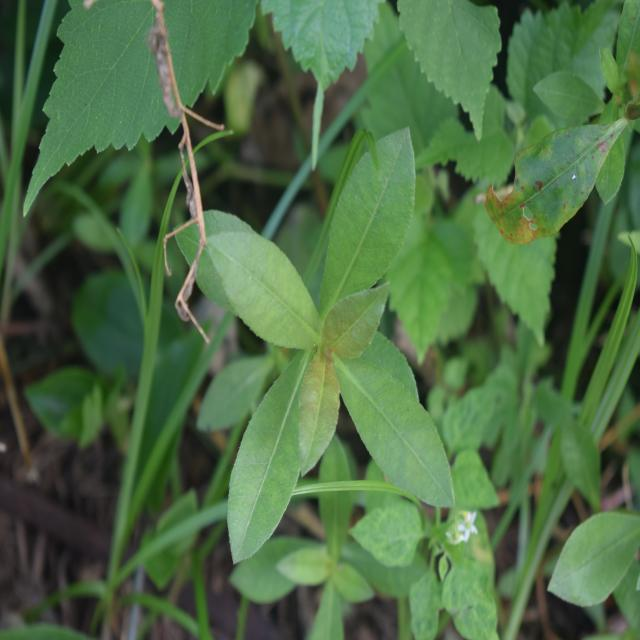Alligatorweed: (204, 137, 452, 548)
